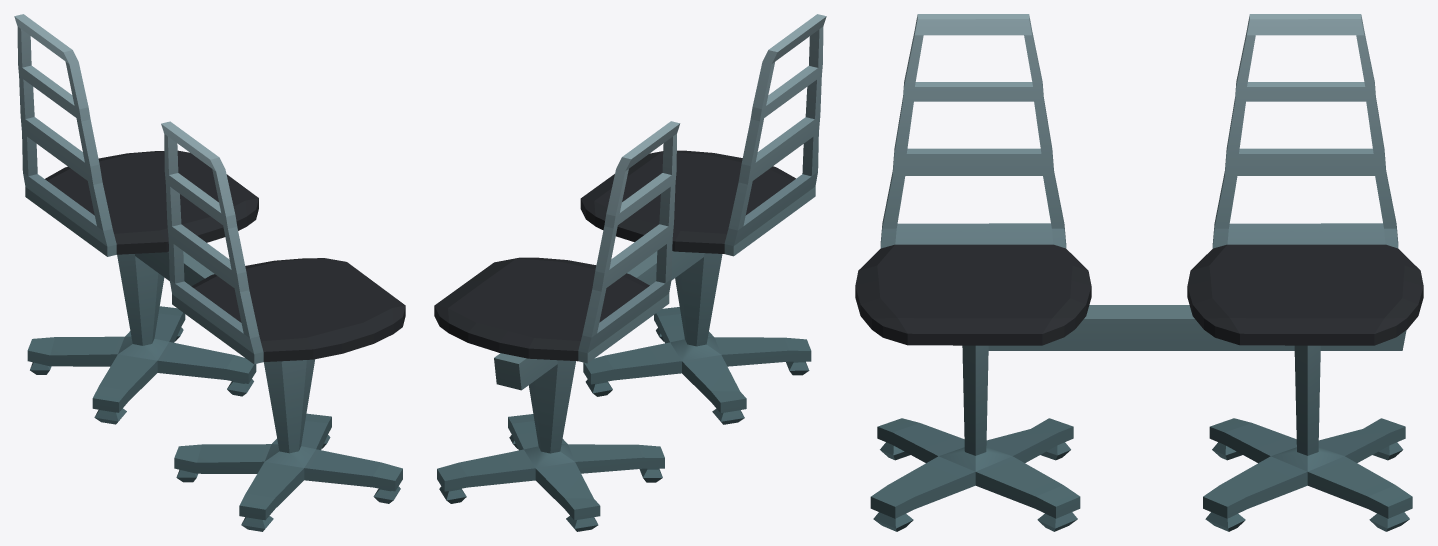
File: Chair.fbx
3 views of the same model, side by side, from view 1: azimuth 30°, elevation 25°; view 2: azimuth 150°, elevation 25°; view 3: azimuth 270°, elevation 25° (orthographic). The views are drawn at different scales.
Parts seen in each view (by area): view 1: chairs; view 2: chairs; view 3: chairs.
Boxes of the visible parts, left/top/right/bottom form: chairs: left=14, top=14, right=405, bottom=531; chairs: left=434, top=14, right=826, bottom=531; chairs: left=855, top=14, right=1423, bottom=531.
Bounding box in the file's own units: 172 × 320 × 391.
